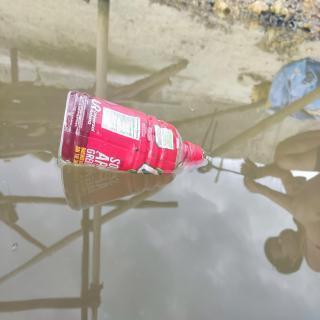bottle: (56, 84, 206, 179)
